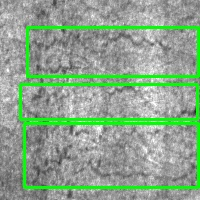crazing: (24, 123, 198, 187), (27, 27, 198, 76), (20, 85, 197, 120)
